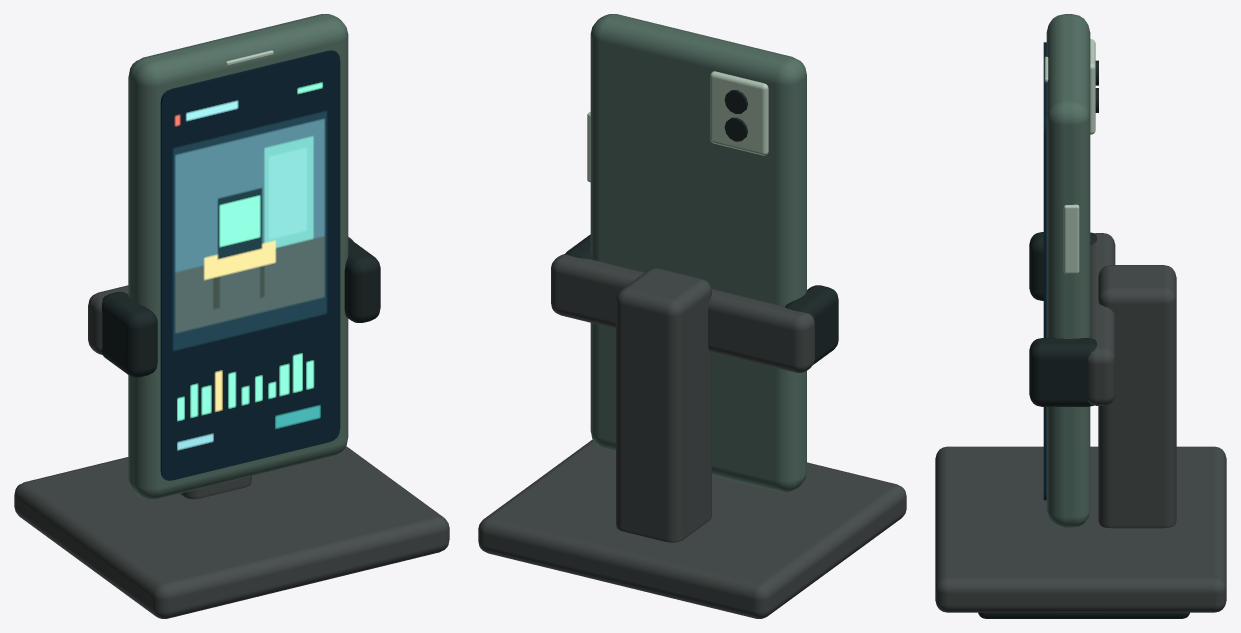
3 views of the same model, side by side, from view 1: azimuth 30°, elevation 25°; view 2: azimuth 150°, elevation 25°; view 3: azimuth 270°, elevation 25° (orthographic). The views are drawn at different scales.
Parts seen in each view (by area): view 1: phone-screen, phone-clamp-base, phone-body-authored, phone-clamp-jaw-left, phone-clamp-jaw-right, phone-clamp-crossbar, phone-clamp-post; view 2: phone-body-authored, phone-clamp-base, phone-clamp-post, phone-clamp-crossbar, phone-camera-island, phone-clamp-jaw-left; view 3: phone-clamp-base, phone-clamp-post, phone-body-authored, phone-clamp-jaw-right, phone-clamp-crossbar, phone-screen, phone-clamp-foot-right, phone-side-key, phone-clamp-jaw-left, phone-camera-island.
Part boxes in pixels (x1=…): phone-screen: x1=160, y1=50, x2=340, y2=480; phone-clamp-base: x1=14, y1=446, x2=449, y2=618; phone-body-authored: x1=128, y1=14, x2=348, y2=499; phone-clamp-jaw-left: x1=102, y1=292, x2=157, y2=377; phone-clamp-jaw-right: x1=344, y1=238, x2=380, y2=322; phone-clamp-crossbar: x1=88, y1=237, x2=352, y2=354; phone-clamp-post: x1=180, y1=476, x2=251, y2=499; phone-body-authored: x1=590, y1=14, x2=806, y2=492; phone-clamp-base: x1=478, y1=439, x2=906, y2=618; phone-clamp-post: x1=616, y1=268, x2=711, y2=542; phone-clamp-crossbar: x1=551, y1=254, x2=814, y2=372; phone-camera-island: x1=710, y1=71, x2=768, y2=155; phone-clamp-jaw-left: x1=785, y1=285, x2=838, y2=364; phone-clamp-base: x1=935, y1=446, x2=1226, y2=612; phone-clamp-post: x1=1098, y1=265, x2=1176, y2=528; phone-body-authored: x1=1046, y1=14, x2=1090, y2=528; phone-clamp-jaw-right: x1=1029, y1=338, x2=1096, y2=406; phone-clamp-crossbar: x1=1087, y1=233, x2=1115, y2=405; phone-screen: x1=1043, y1=42, x2=1046, y2=500; phone-clamp-foot-right: x1=978, y1=612, x2=1189, y2=618; phone-side-key: x1=1063, y1=204, x2=1079, y2=273; phone-clamp-jaw-left: x1=1029, y1=232, x2=1096, y2=300; phone-camera-island: x1=1090, y1=39, x2=1095, y2=134.
Bounding box in the file's own units: 0.106 × 0.177 × 0.093.
Materials: 5 (1 with a texture image).
